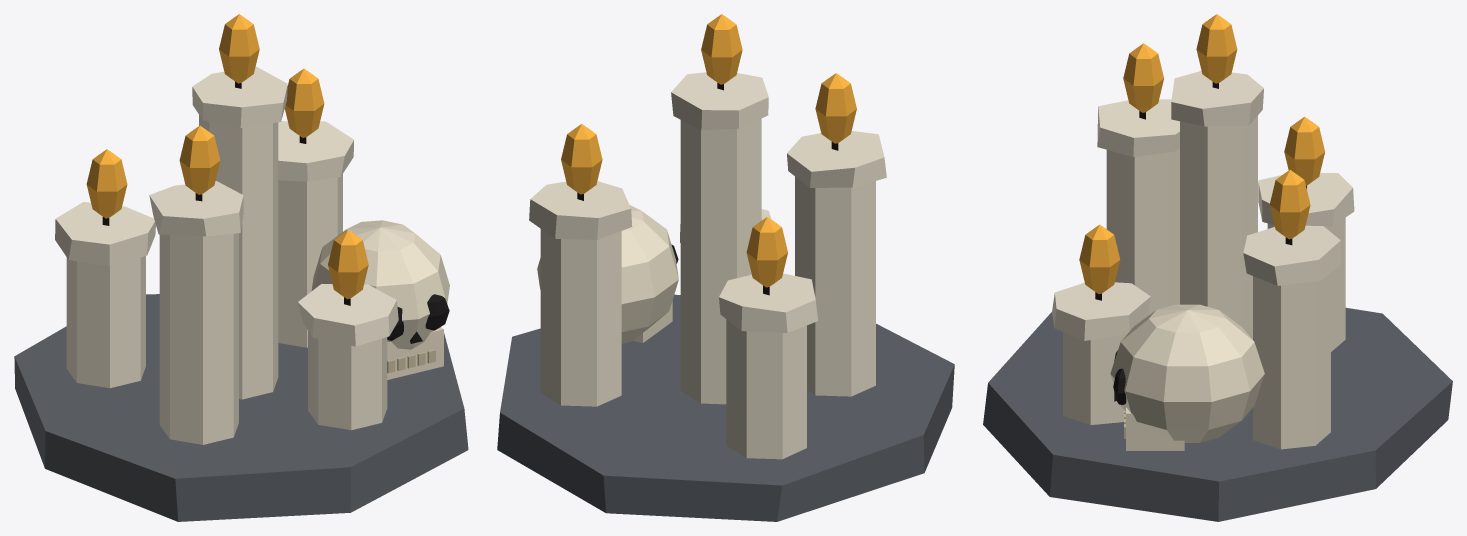
Rendered from SkullCandles.fbx.
3 renders of one model, left to right at view 1: azimuth 30°, elevation 25°; view 2: azimuth 150°, elevation 25°; view 3: azimuth 270°, elevation 25°, orthographic.
Visible parts, largest first — view 1: SkullCandles, SkullCandles_Glow; view 2: SkullCandles, SkullCandles_Glow; view 3: SkullCandles, SkullCandles_Glow.
Boxes of the visible parts, x1,y1,x2,y2 form: SkullCandles: (14,66,468,521); SkullCandles_Glow: (86,14,368,299); SkullCandles: (497,72,954,521); SkullCandles_Glow: (561,14,856,287); SkullCandles: (983,71,1452,521); SkullCandles_Glow: (1079,14,1324,293).
Size of the model in its own units: 318 by 312 by 321.
Materials: 1 (1 with a texture image).
